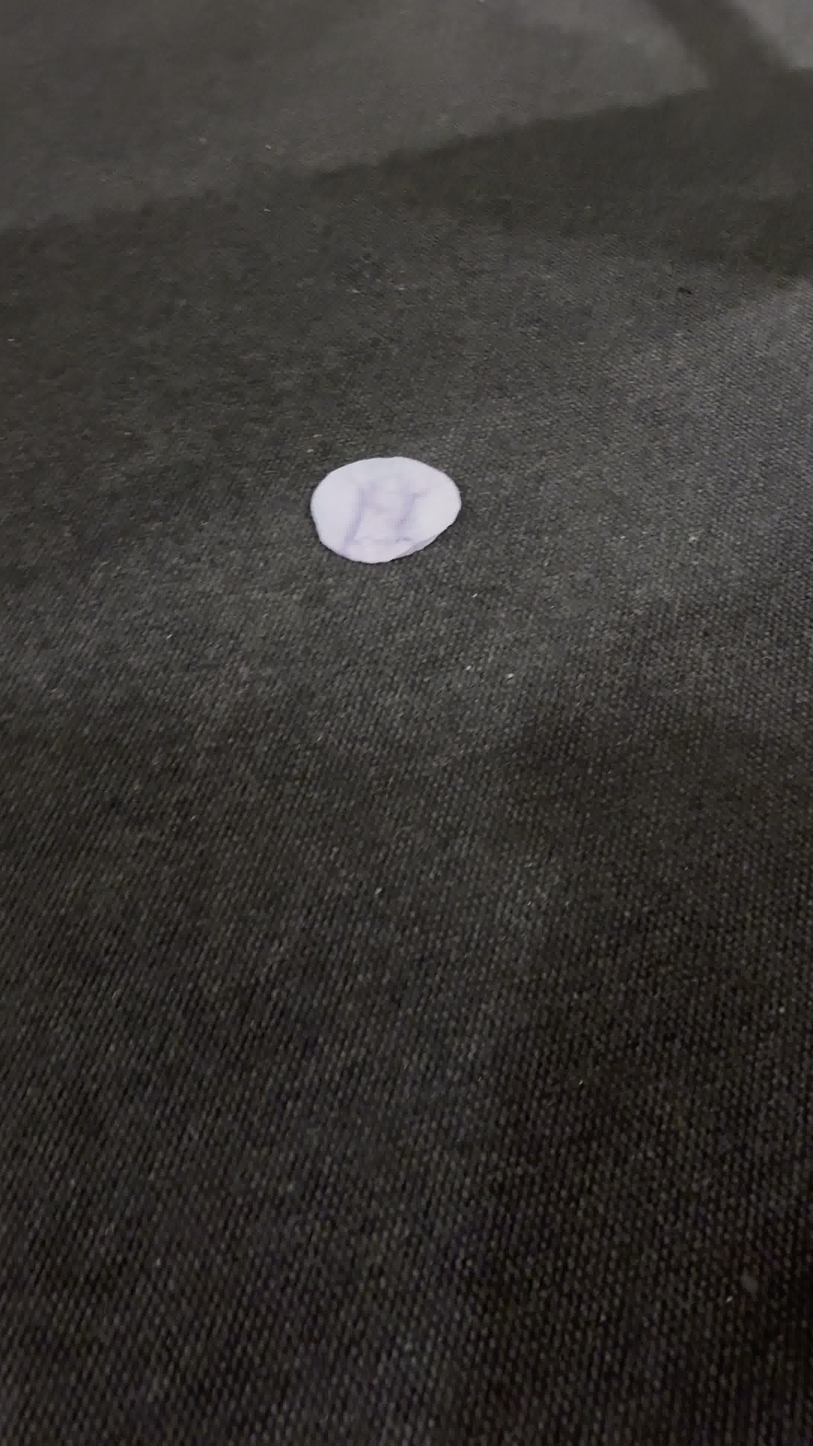Target: (311, 456, 461, 563)
